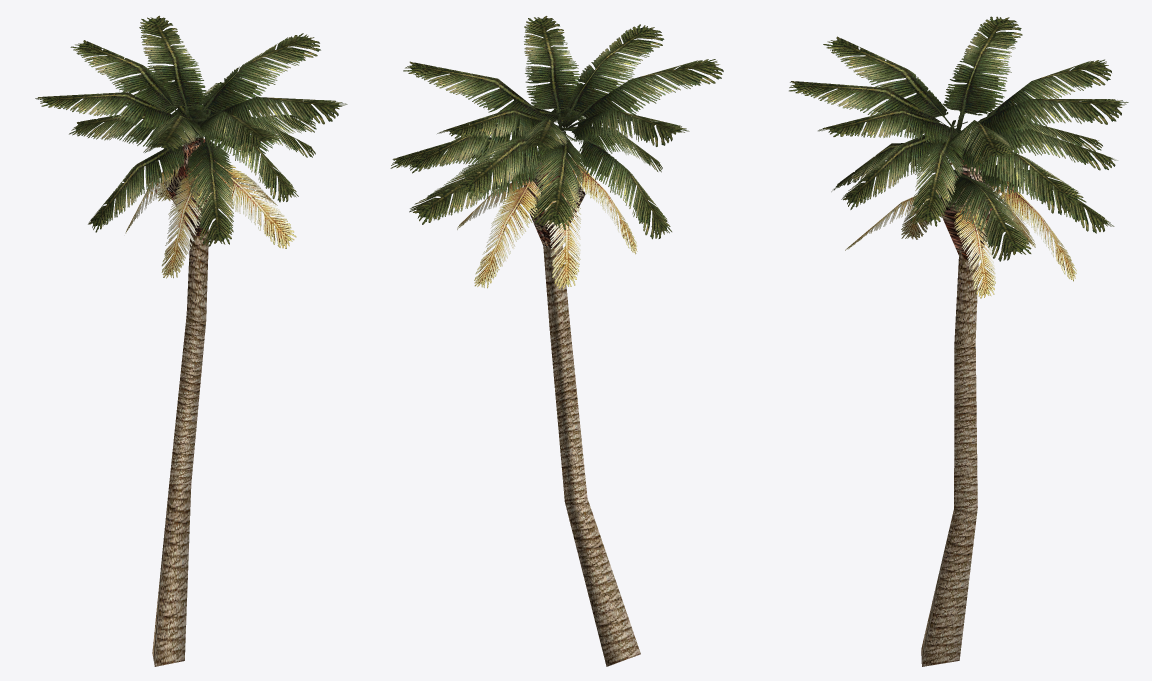
File: tree_senegal_08.dae
The picture shows the model from 3 angles, left to right: view 1: azimuth 30°, elevation 25°; view 2: azimuth 150°, elevation 25°; view 3: azimuth 270°, elevation 25°; orthographic projection. The views are drawn at different scales.
Parts seen in each view (by area): view 1: Object109_Pivot-Pivot; view 2: Object109_Pivot-Pivot; view 3: Object109_Pivot-Pivot.
Part boxes in pixels (x1,y1,x2,y2): Object109_Pivot-Pivot: [35, 15, 347, 666]; Object109_Pivot-Pivot: [390, 16, 723, 666]; Object109_Pivot-Pivot: [789, 16, 1128, 666].
Size of the model in its own units: 11.48 by 11.22 by 20.33.
